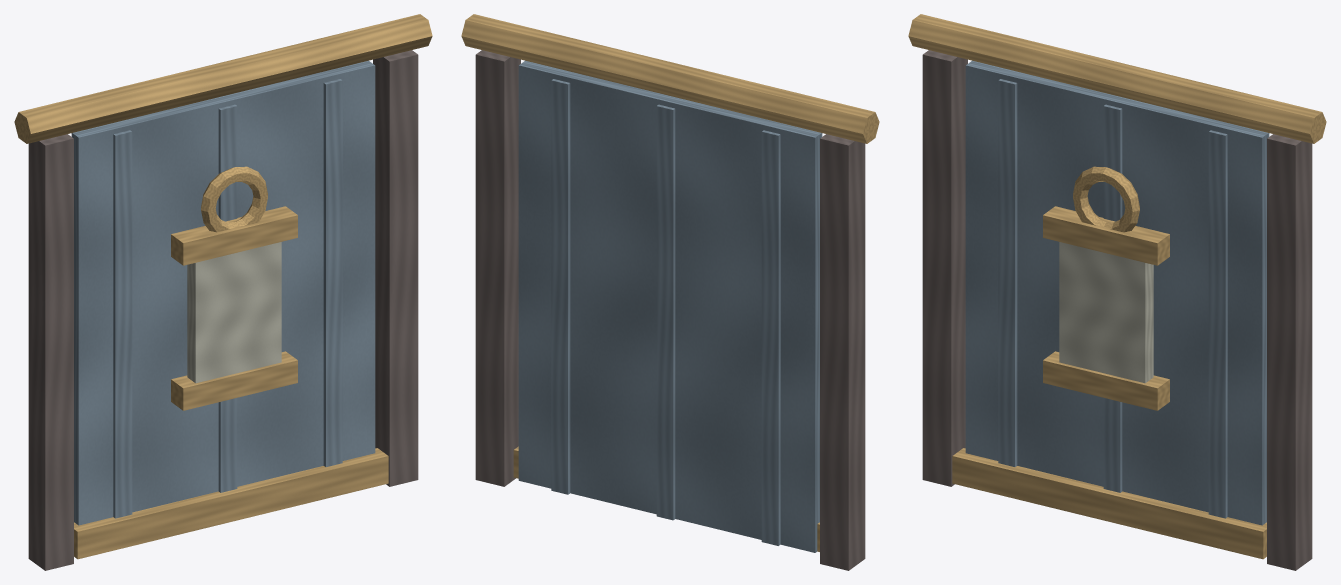
Rendered from lantern-watch-lantern-watch-banner__98.glb.
3 views of the same model, side by side, from view 1: azimuth 30°, elevation 25°; view 2: azimuth 150°, elevation 25°; view 3: azimuth 330°, elevation 25° (orthographic).
Parts seen in each view (by area): view 1: lantern-watch-watch-banner; view 2: lantern-watch-watch-banner; view 3: lantern-watch-watch-banner.
Part boxes in pixels (x1=…): lantern-watch-watch-banner: x1=14, y1=14, x2=432, y2=570; lantern-watch-watch-banner: x1=461, y1=14, x2=879, y2=570; lantern-watch-watch-banner: x1=908, y1=14, x2=1326, y2=570.
Size of the model in its own units: 0.84 by 0.906 by 0.0925.
Materials: 4 (4 with a texture image).
